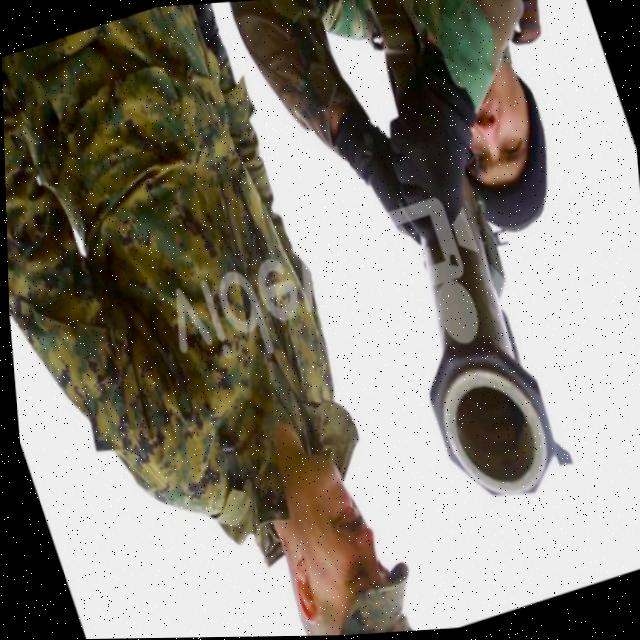rocket: (364, 179, 576, 520)
